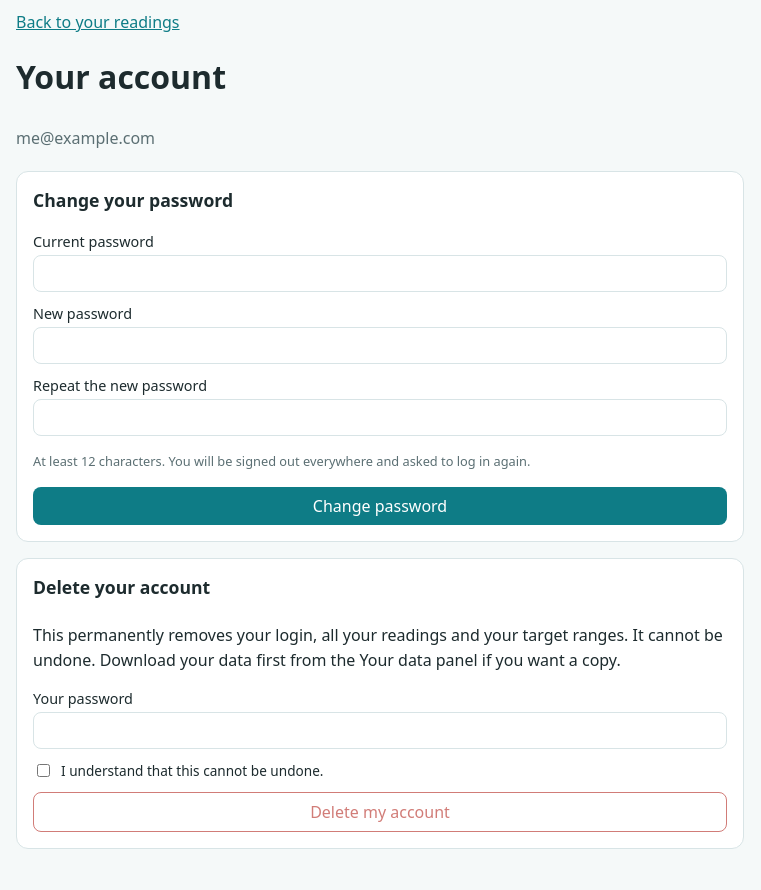
Scenario: AccountPage: changing the password › stays on the page and shows the field message when the current password is wrong
The width and height of the screenshot is (761, 890).
In the password field labelled "Current password": point(380, 273) [33,255,727,292], type "Wrong-Passw0rd-12345"
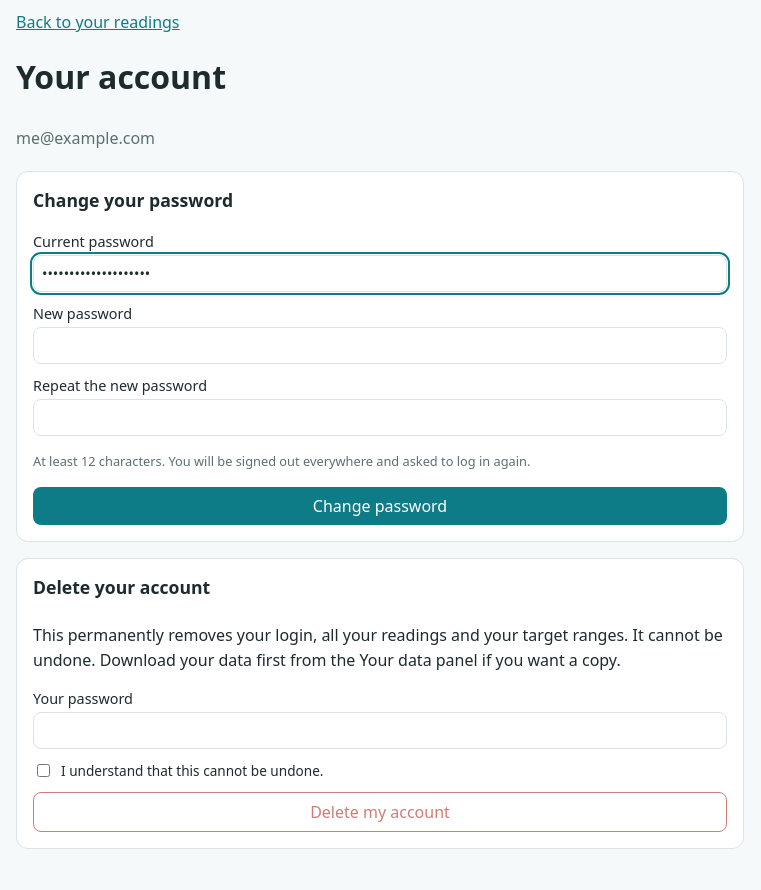
In the password field labelled "New password": point(380, 345) [33,327,727,364], type "Brand-New-Passw0rd-1"
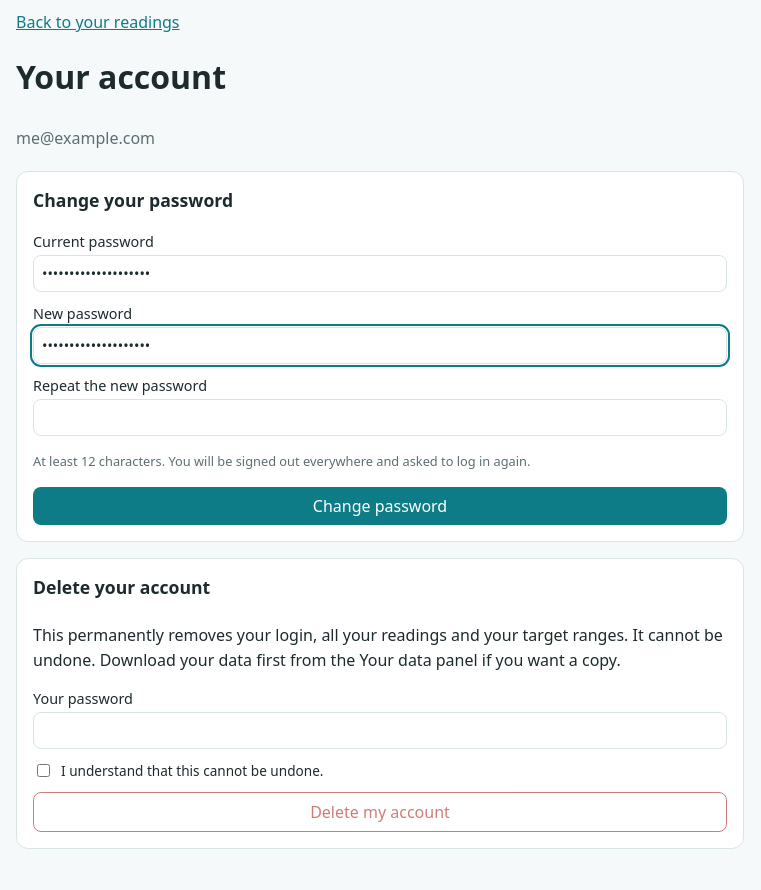
In the password field labelled "Repeat the new password": point(380, 417) [33,399,727,436], type "Brand-New-Passw0rd-1"
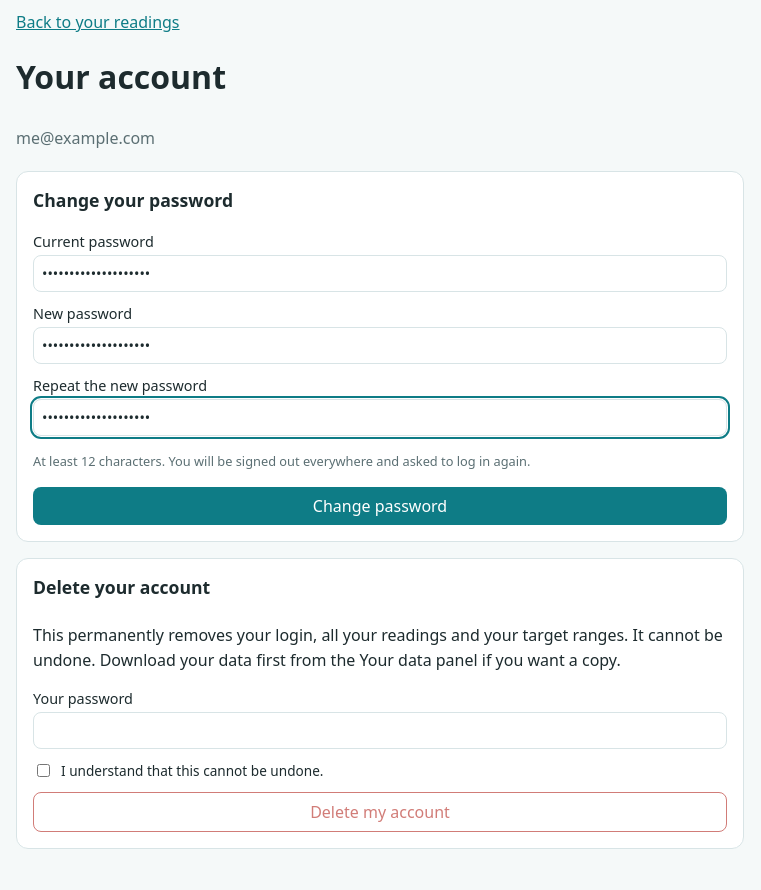
Click the button "Change password": point(380, 506) [33,487,727,525]
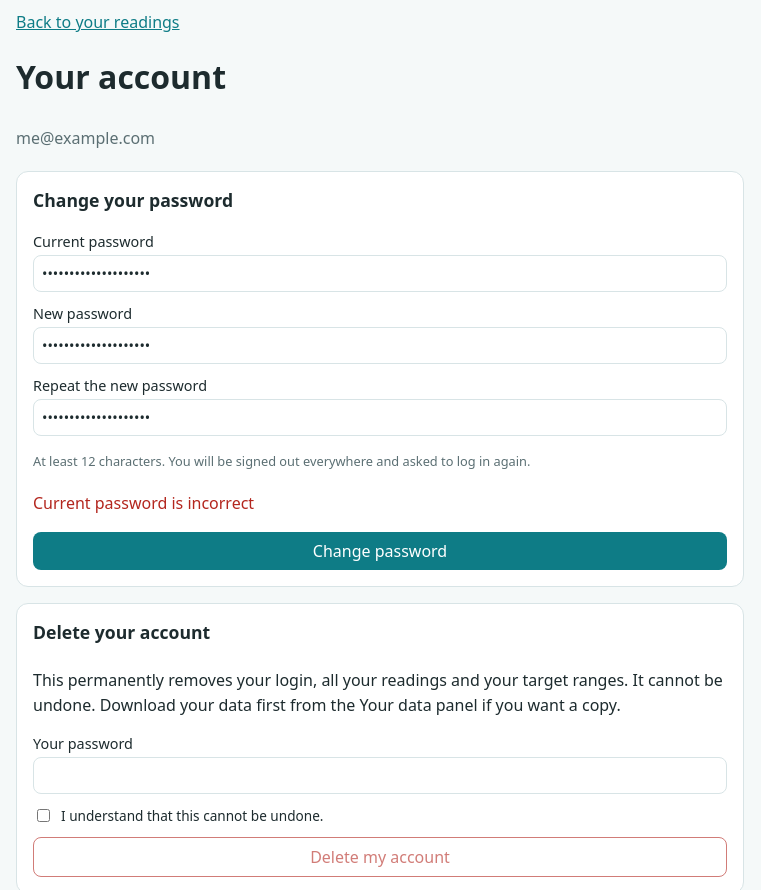
Check: the heading "Your account" is shown, box [16,55,226,98]
Check: the message reads "Current password is incorrect", box [33,492,254,514]
